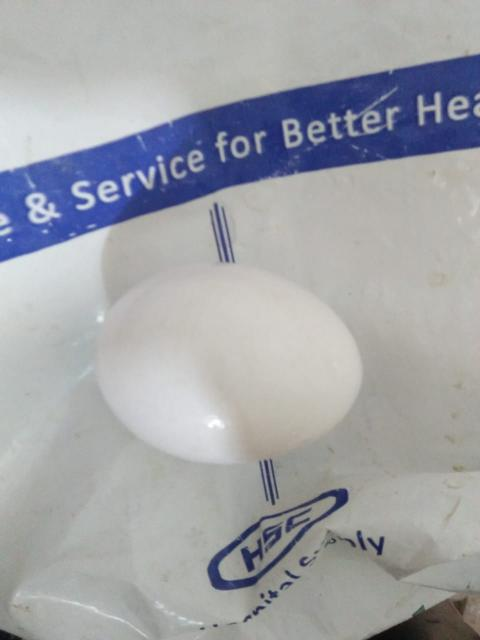Sano: (92, 260, 364, 465)
